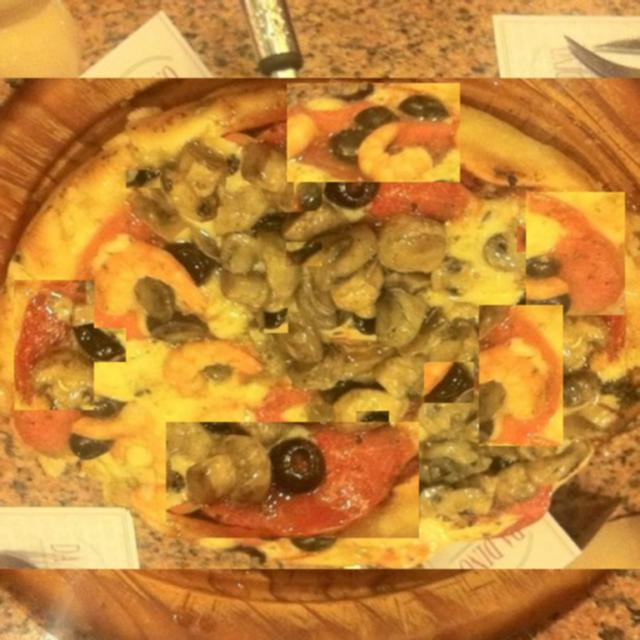olive: (260, 437, 314, 493), (424, 362, 474, 403), (72, 328, 126, 362), (185, 134, 229, 169), (119, 263, 167, 295), (376, 127, 418, 162), (526, 186, 574, 213), (517, 226, 566, 252), (348, 105, 396, 129), (300, 94, 350, 115), (294, 180, 322, 211), (286, 242, 322, 266), (356, 411, 389, 434), (259, 308, 288, 333), (126, 170, 160, 188)
pepperoni: (166, 422, 419, 538), (288, 83, 462, 182), (526, 192, 625, 315), (479, 305, 563, 446), (14, 280, 94, 410), (88, 104, 188, 165), (317, 188, 385, 260)
pizza: (0, 78, 640, 569)
